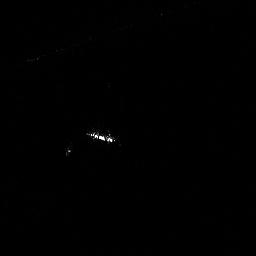ship: (83, 127, 120, 148)
